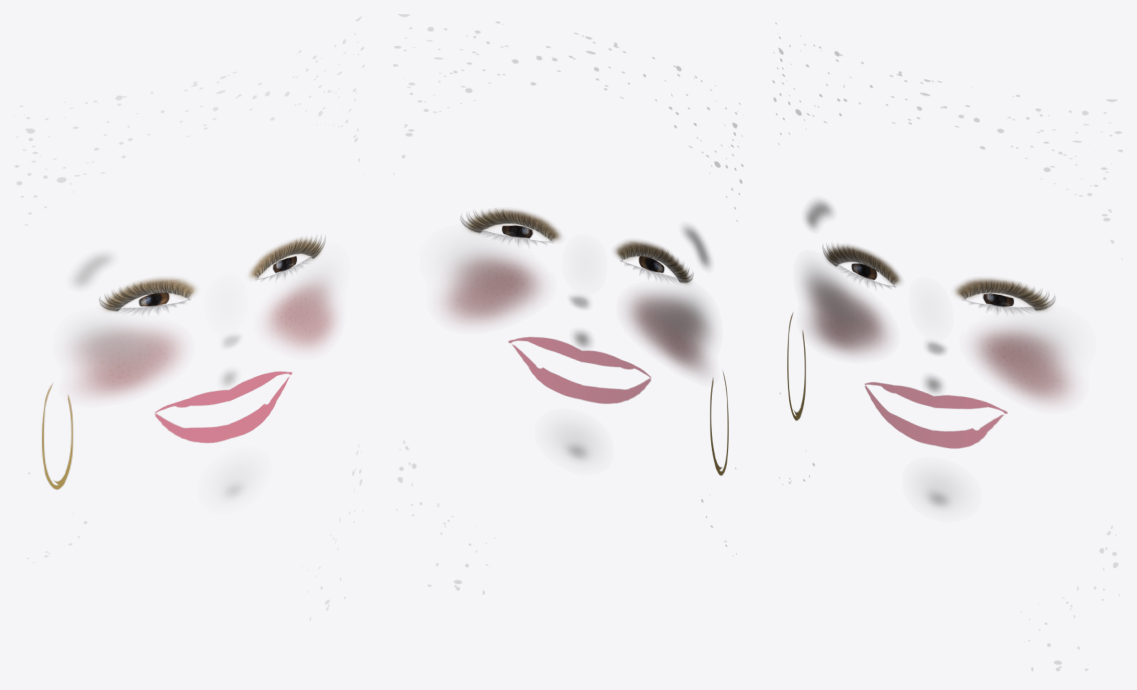
3 renders of one model, left to right at view 1: azimuth 30°, elevation 25°; view 2: azimuth 150°, elevation 25°; view 3: azimuth 330°, elevation 25°, orthographic.
Size of the model in its own units: 3.82 by 6 by 0.5117.
Materials: 1 (1 with a texture image).
